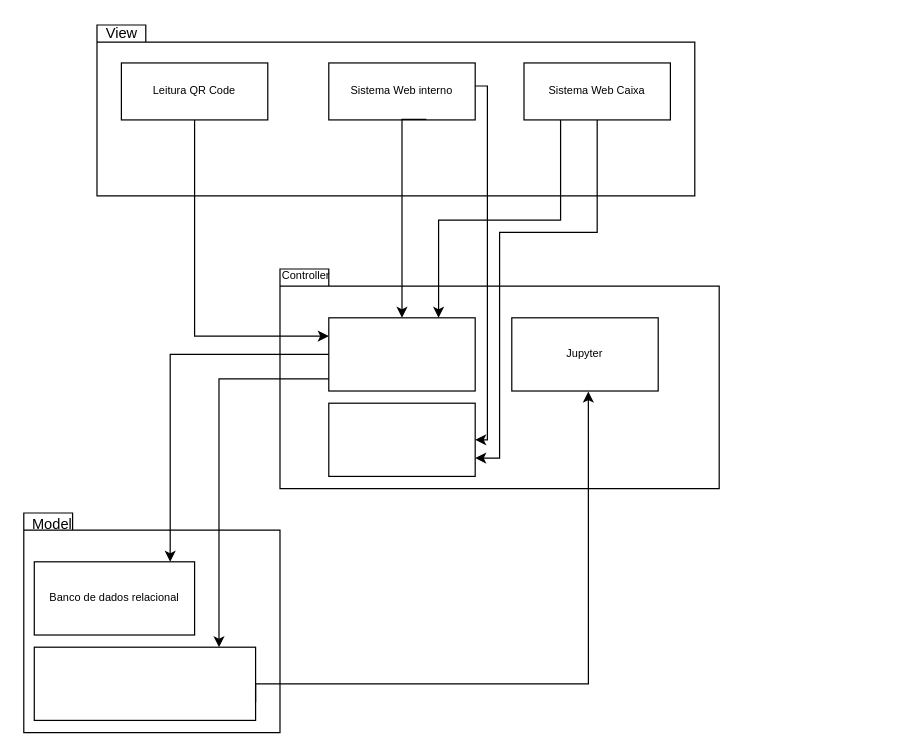
Some shapes in this 924 by 754 pixel diagram are drawn without their labels. Here are the shapes that lost their labels. From the top down, the centre of each, then its label:
At point 401,354: "Rabbit".
At point 401,439: "NodeJs".
At point 144,683: "Banco de dados não relacional".
